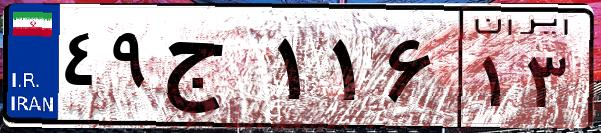1: (270, 28, 330, 110), (330, 28, 385, 110), (475, 38, 525, 113)
3: (525, 38, 570, 115)
4: (57, 26, 110, 100)
6: (385, 28, 445, 110)
9: (110, 28, 158, 98)
ج: (158, 20, 270, 120)
